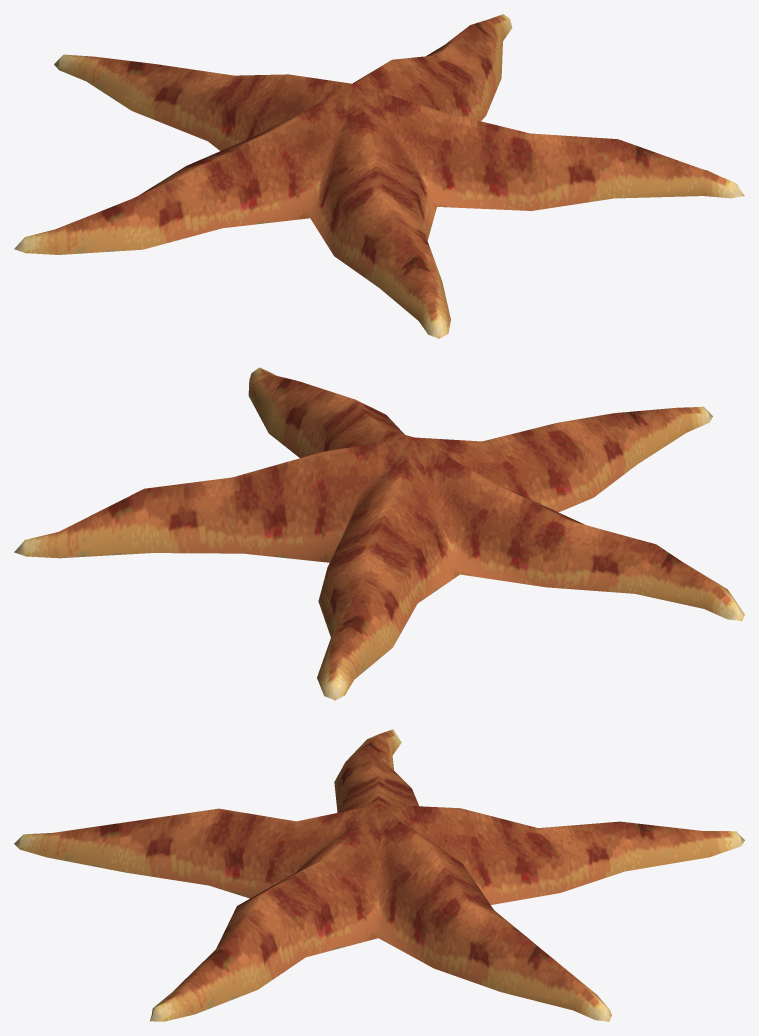
File: 5010_Item_haixing_01.FBX
3 views of the same model, one above another, from view 1: azimuth 30°, elevation 25°; view 2: azimuth 150°, elevation 25°; view 3: azimuth 270°, elevation 25° (orthographic). The views are drawn at different scales.
Visible parts, largest first — view 1: 5010_Item_haixing_01; view 2: 5010_Item_haixing_01; view 3: 5010_Item_haixing_01.
Part boxes in pixels (left/top/right/bottom): 5010_Item_haixing_01: left=14, top=14, right=744, bottom=338; 5010_Item_haixing_01: left=14, top=367, right=744, bottom=700; 5010_Item_haixing_01: left=14, top=729, right=744, bottom=1021.
Size of the model in its own units: 132 by 19.13 by 143.
